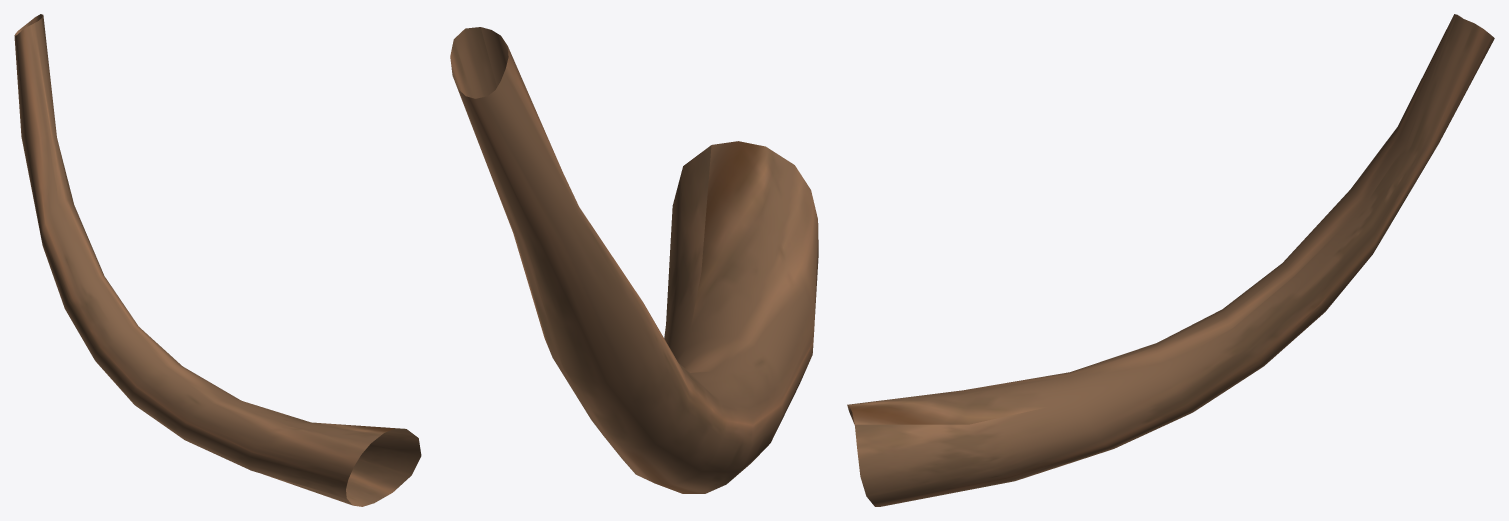
File: Bold_Tree_Bend05.fbx
The picture shows the model from 3 angles, left to right: view 1: azimuth 30°, elevation 25°; view 2: azimuth 150°, elevation 25°; view 3: azimuth 270°, elevation 25°; orthographic projection. The views are drawn at different scales.
Parts seen in each view (by area): view 1: Bold_Tree03_L.004; view 2: Bold_Tree03_L.004; view 3: Bold_Tree03_L.004.
Boxes of the visible parts, x1,y1,x2,y2 form: Bold_Tree03_L.004: (14,14,421,506); Bold_Tree03_L.004: (450,27,818,493); Bold_Tree03_L.004: (847,14,1494,506).
Size of the model in its own units: 1457 by 2584 by 3532.
Materials: 1 (1 with a texture image).
